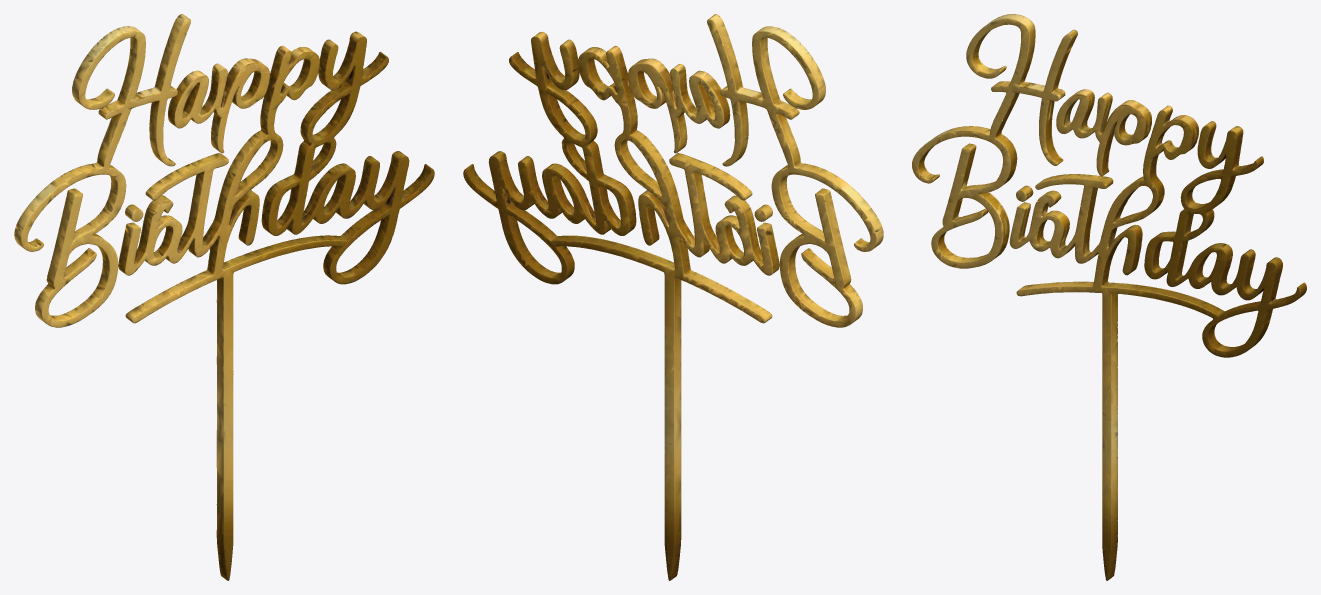
The model's file is 3D_happy_birthday_acrylic_topper_1.glb.
3 views of the same model, side by side, from view 1: azimuth 30°, elevation 25°; view 2: azimuth 150°, elevation 25°; view 3: azimuth 330°, elevation 25° (orthographic). The views are drawn at different scales.
Bounding box in the file's own units: 1.43 × 1.9 × 0.0423.
1 material, 1 textured.
